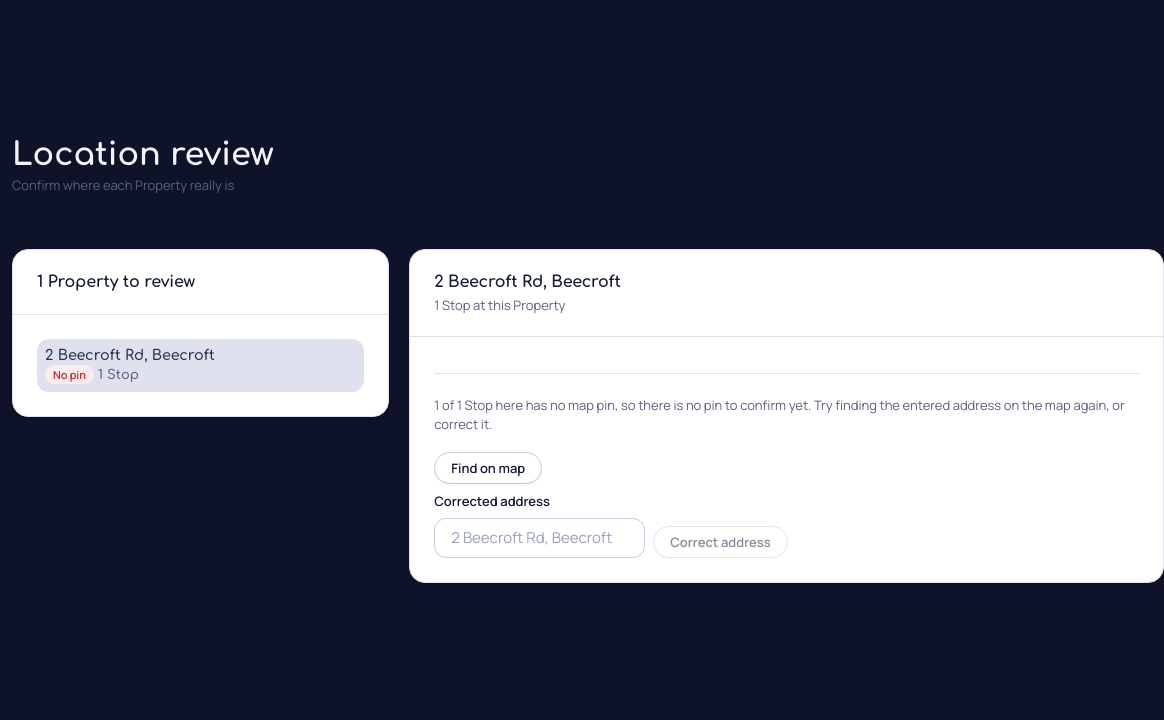
Administrator Location review page › a Property with a Stop that has no pin (#344) › says so when they still can't be found
The width and height of the screenshot is (1164, 720).
Click the button "Find on map" at coordinates (488, 468), box [434, 452, 542, 484]
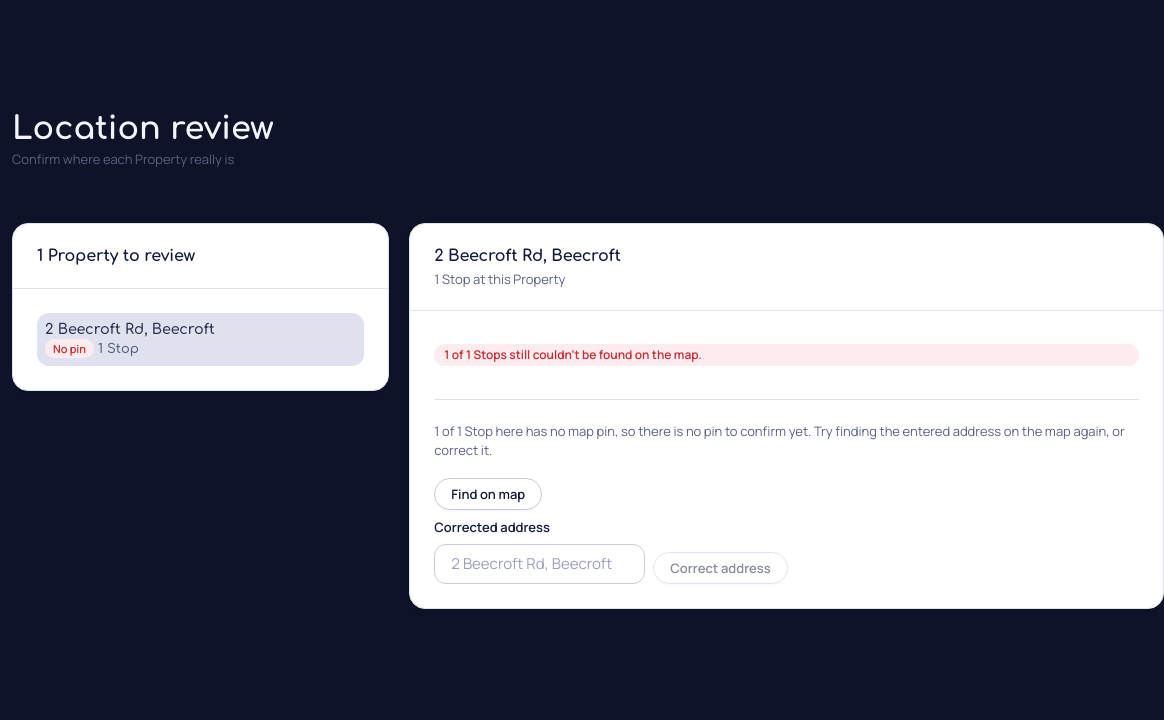
Check: the text "1 of 1 Stops still couldn't be found on the map." is shown, box [434, 344, 1139, 366]
